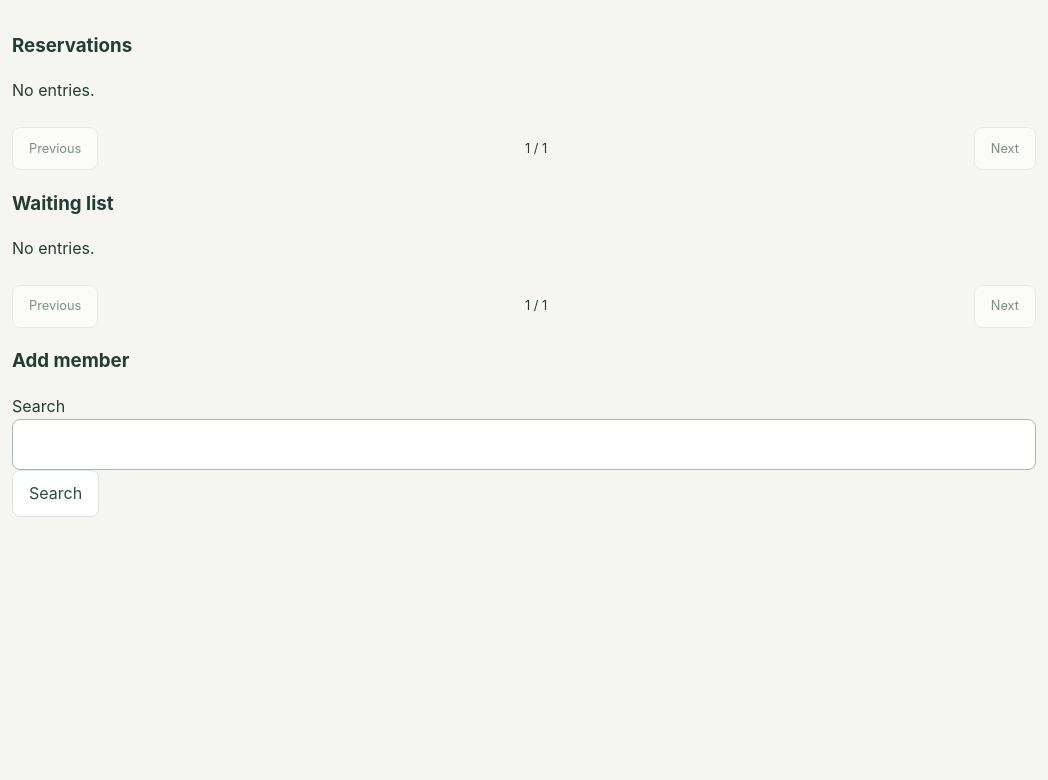
adds offline member and renders waitlisted outcome
Type "Offline" into the field.
click(524, 444); type("Offline")  # box [12,419,1036,470]
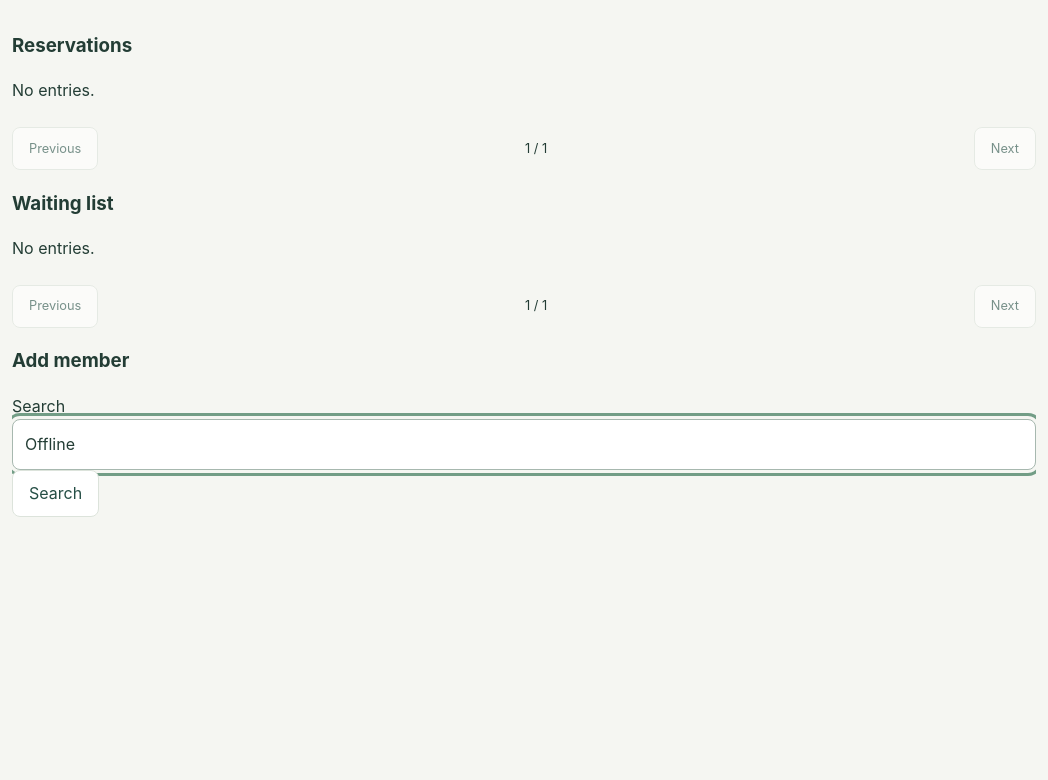
Click the button "Search".
click(56, 494)  # box [12,470,99,517]
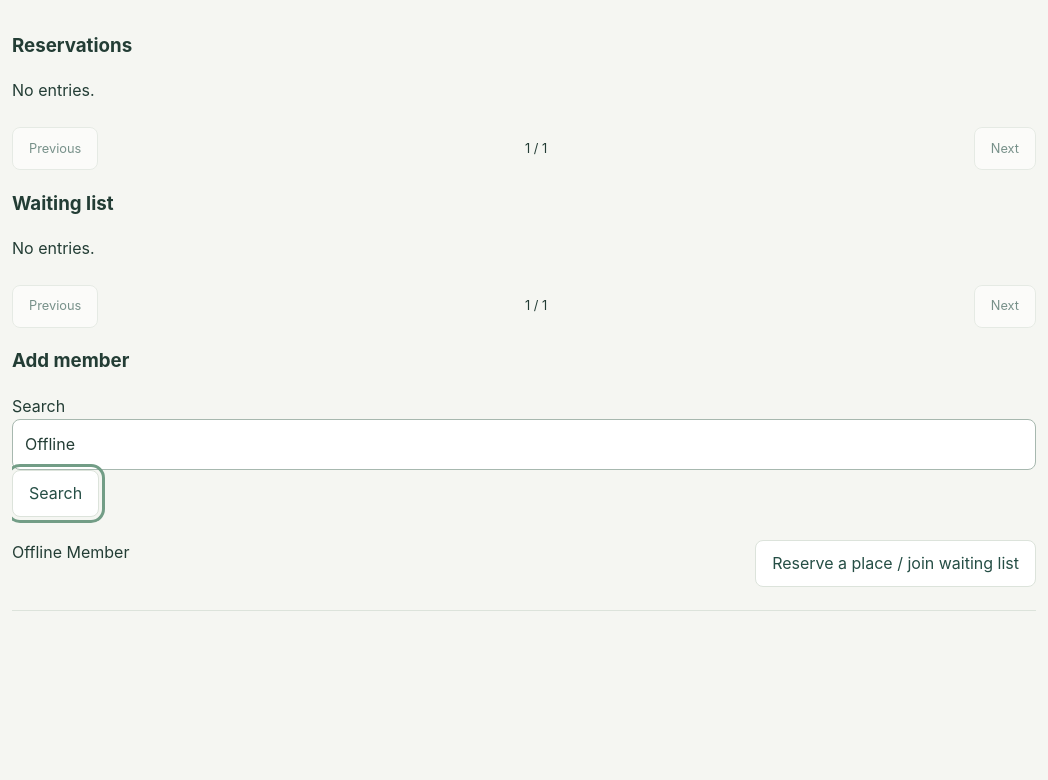
Click the button "Reserve a place / join waiting list".
click(896, 564)  # box [755,540,1036,587]
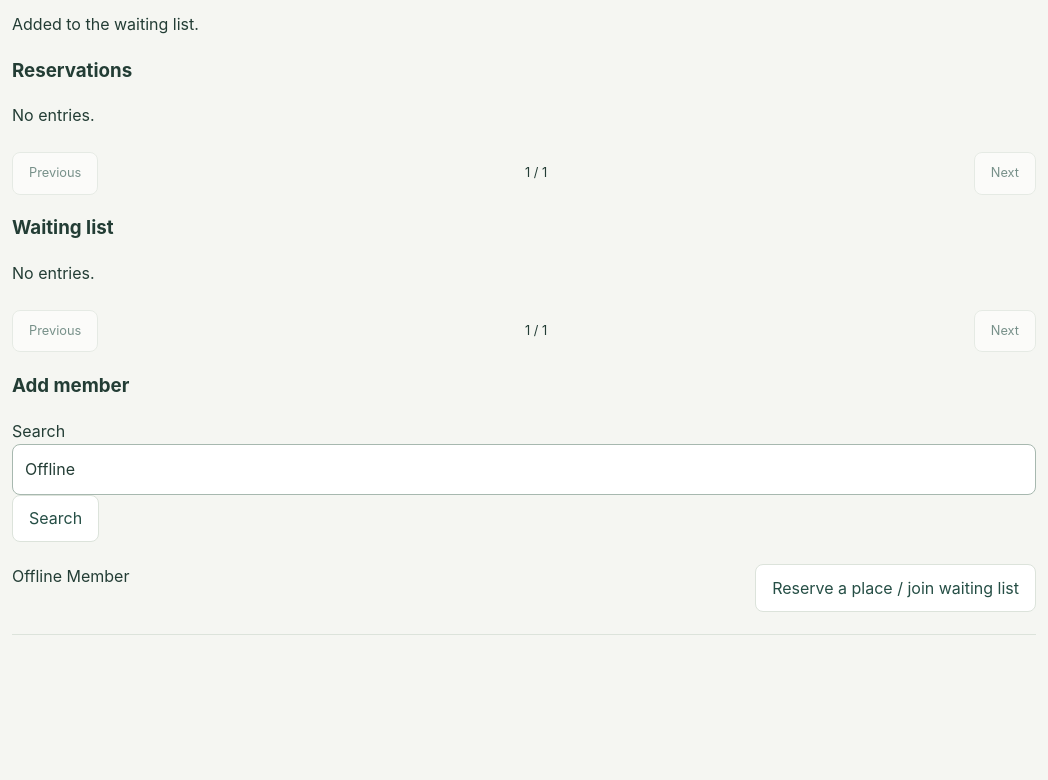
Now the message reads "Added to the waiting list.", box [12,14,199,34]
